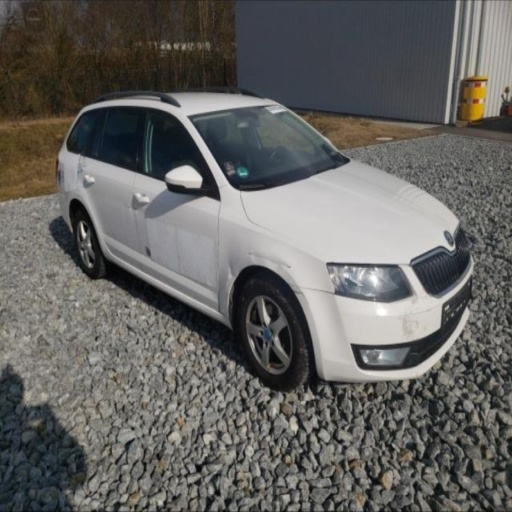dent: (245, 250, 291, 270), (225, 254, 238, 294)
rust: (265, 361, 274, 370)
scratch: (247, 251, 296, 271), (144, 242, 152, 257), (144, 246, 152, 260), (294, 290, 303, 295)
